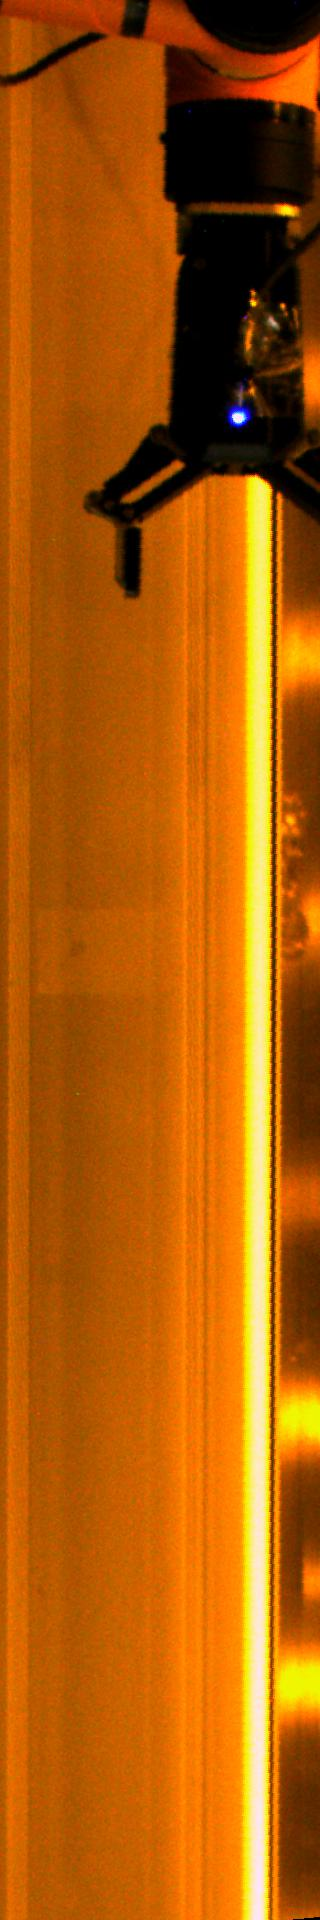keyPoint_1: (224, 403, 254, 433)
